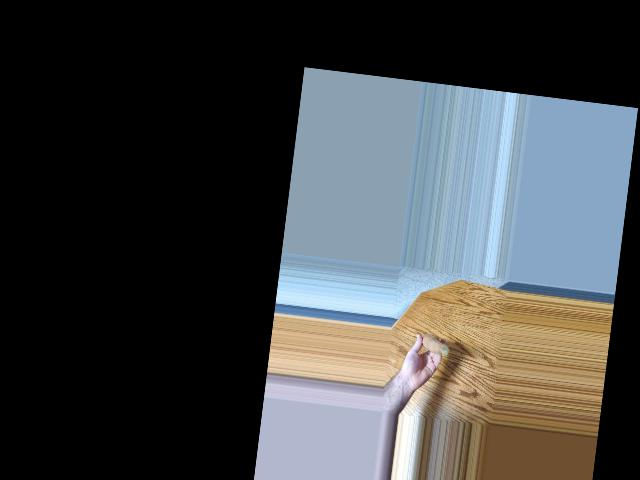sweet_potato: (418, 336, 450, 358)
